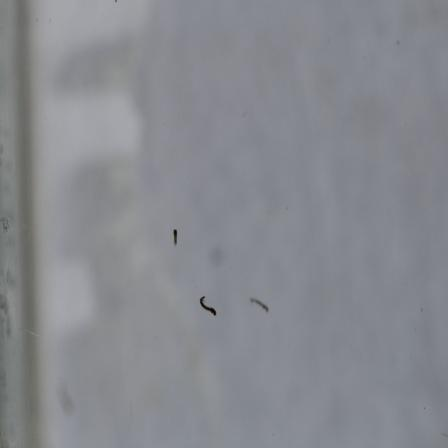Jentik-Nyamuk: (195, 294, 220, 318), (166, 224, 184, 249), (245, 296, 270, 314)
